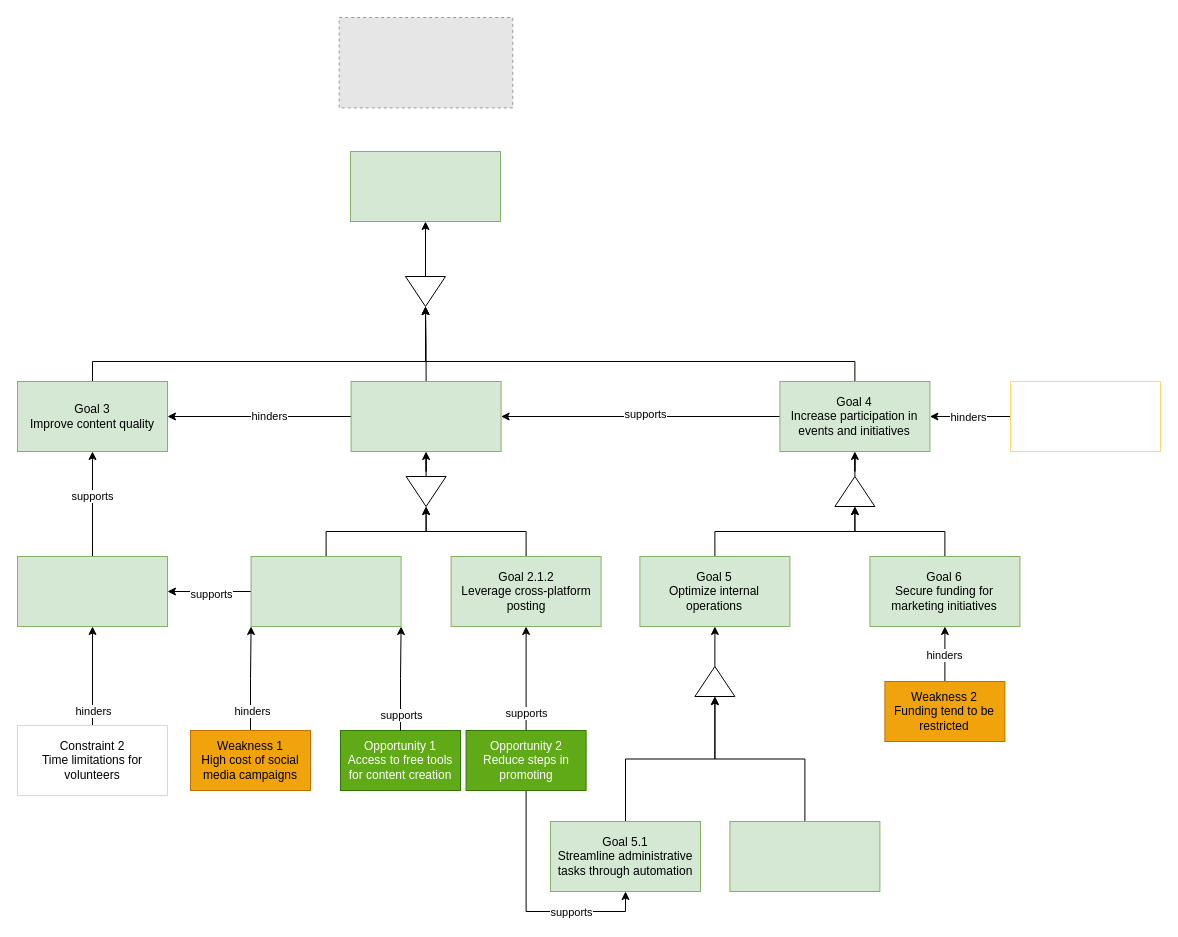
The diagram is 1178 pixels wide and 937 high, and some of its shapes have lost their labels. Grey dashed boxes stand in for pictures. The shapes that lost their labels are listed below. From the top down, each one's centre as x and y in pixels, then its label:
At [425,186]: "Goal 1.2 Increase social media outreach with 30% (+)".
At [425,416]: "Goal 2.1 Expand marketing activities to a broader audience".
At [1085,416]: "Constraint 1 Limited budget".
At [92,591]: "Goal 3.1 Create engaging content".
At [325,591]: "Goal: 2.1.1 Run social media ad campaigns".
At [804,856]: "Goal 5.2 Improve internal communication between local departments".
